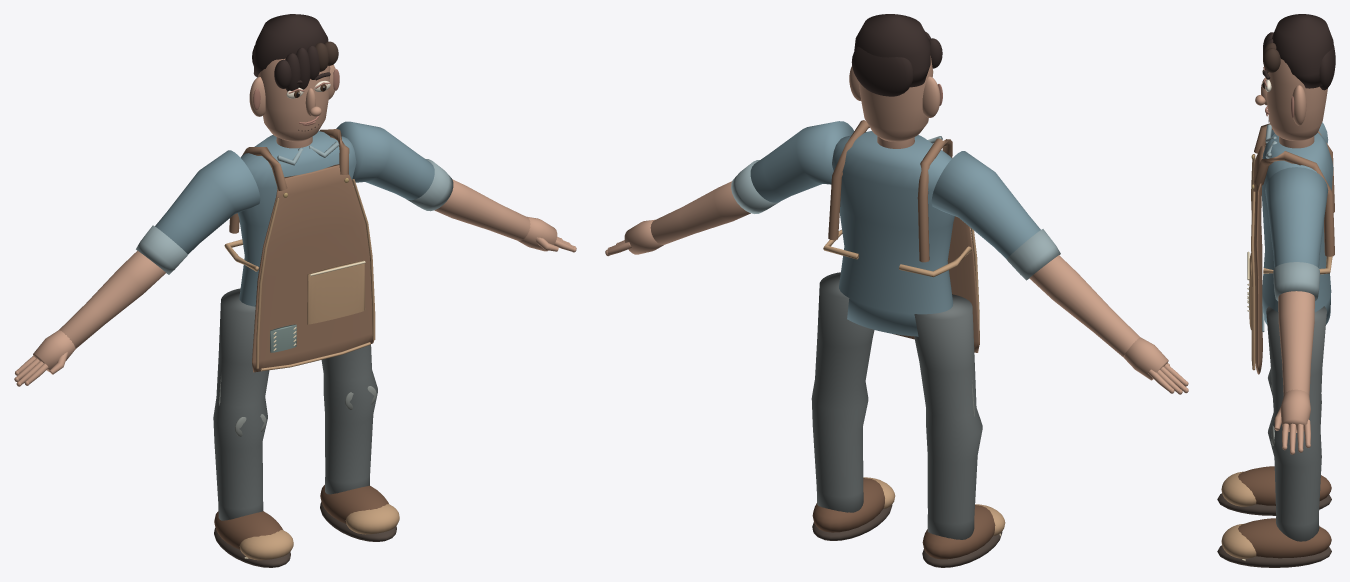
The picture shows the model from 3 angles, left to right: view 1: azimuth 30°, elevation 25°; view 2: azimuth 150°, elevation 25°; view 3: azimuth 270°, elevation 25°; orthographic projection. The views are drawn at different scales.
Parts seen in each view (by area): view 1: leather apron body, left trouser leg, right trouser leg, left upper sleeve, shirt torso, right upper sleeve, left forearm, face and head, shoe upper (×2), front pocket, right forearm, hair cap (+7 smaller); view 2: shirt torso, left trouser leg, right trouser leg, left upper sleeve, right upper sleeve, left forearm, shoe upper (×2), hair cap, face and head, right forearm, apron shoulder strap (×2), back hair (+6 smaller); view 3: right trouser leg, right upper sleeve, shoe upper (×2), shirt torso, right forearm, hair cap, face and head, apron shoulder strap (×2), sole (×2), leather apron body, shoe toe cap (×2), right rolled cuff (+9 smaller).
Boxes of the visible parts, x1,y1,x2,y2 form: leather apron body: (252, 164, 373, 372); left trouser leg: (213, 288, 269, 520); right trouser leg: (321, 344, 377, 494); left upper sleeve: (155, 150, 260, 254); shirt torso: (237, 131, 356, 306); right upper sleeve: (336, 121, 434, 200); left forearm: (59, 250, 165, 348); face and head: (258, 58, 330, 141); shoe upper (×2): (214, 485, 388, 549); front pocket: (307, 260, 365, 324); right forearm: (434, 179, 530, 240); hair cap: (253, 14, 328, 77); shirt torso: (832, 131, 954, 336); left trouser leg: (914, 294, 982, 539); right trouser leg: (811, 272, 874, 512); left upper sleeve: (931, 151, 1040, 258); right upper sleeve: (750, 121, 854, 202); left forearm: (1029, 255, 1140, 357); shoe upper (×2): (812, 478, 995, 559); hair cap: (854, 14, 930, 87); face and head: (858, 56, 932, 141); right forearm: (650, 181, 750, 244); apron shoulder strap (×2): (828, 120, 952, 262); back hair: (851, 46, 913, 96); right trouser leg: (1266, 306, 1326, 541); right upper sleeve: (1265, 167, 1328, 267); shoe upper (×2): (1238, 466, 1331, 558); shirt torso: (1261, 132, 1333, 324); right forearm: (1278, 291, 1314, 396); hair cap: (1272, 14, 1333, 88); face and head: (1267, 58, 1327, 140); apron shoulder strap (×2): (1254, 123, 1334, 256); sole (×2): (1217, 493, 1331, 567); leather apron body: (1253, 145, 1265, 374); shoe toe cap (×2): (1221, 471, 1256, 558); right rolled cuff: (1273, 262, 1319, 300).
Size of the model in its own units: 2.16 by 1.9 by 0.394.
